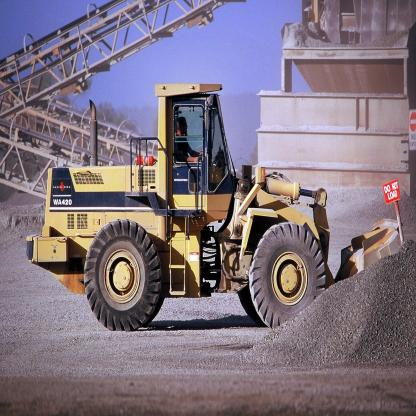bull_dozer/loader/grader: (21, 76, 406, 327)
